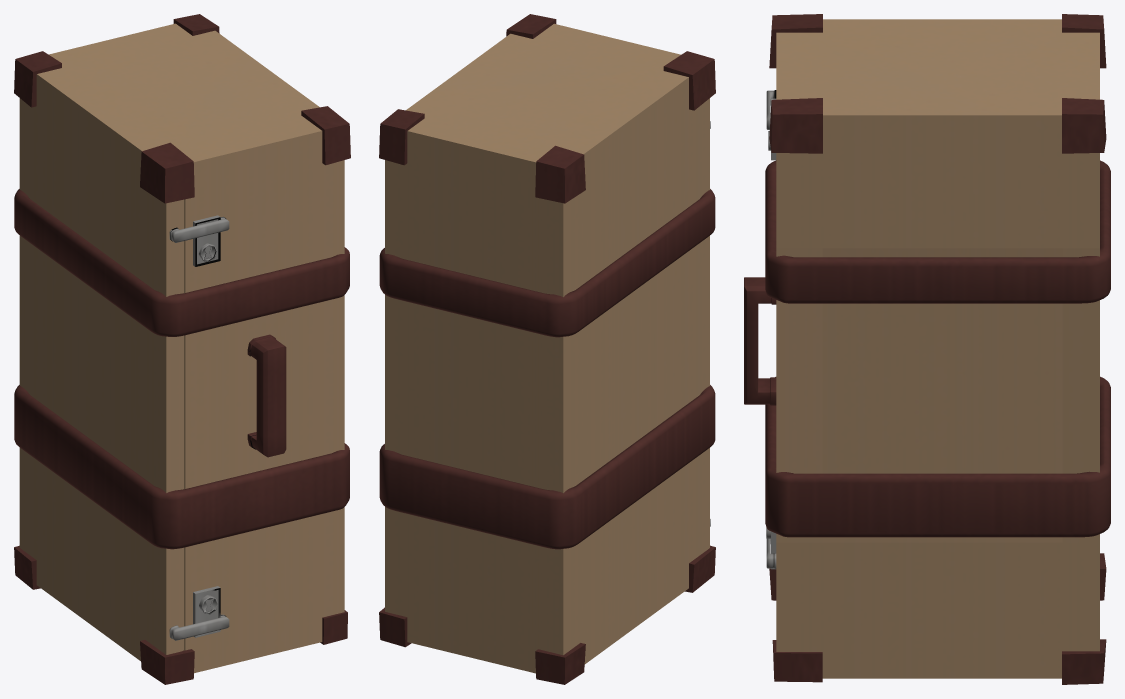
Rendered from MalaDeCouro.fbx.
The picture shows the model from 3 angles, left to right: view 1: azimuth 30°, elevation 25°; view 2: azimuth 150°, elevation 25°; view 3: azimuth 270°, elevation 25°; orthographic projection. The views are drawn at different scales.
Parts seen in each view (by area): view 1: Mala_LOD0; view 2: Mala_LOD0; view 3: Mala_LOD0.
Part boxes in pixels (x1,y1,x2,y2): Mala_LOD0: (14, 14, 350, 684); Mala_LOD0: (379, 14, 715, 684); Mala_LOD0: (744, 14, 1110, 684).
Bounding box in the file's own units: 44.39 × 112 × 64.97.
